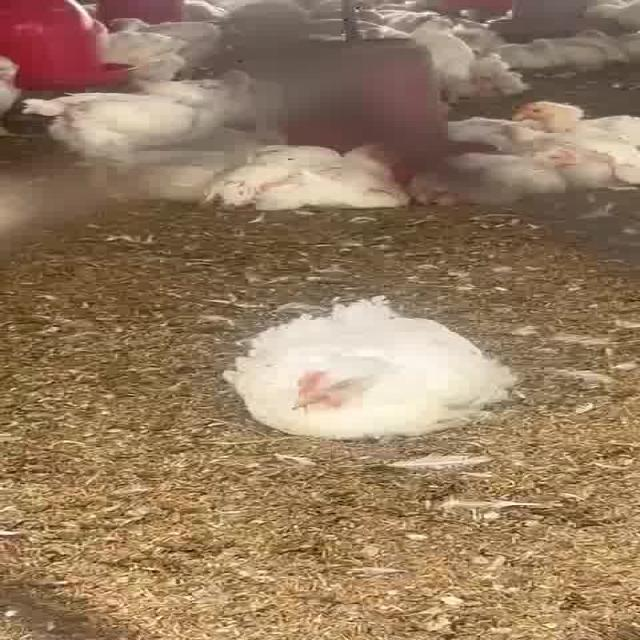AbNormal: (242, 308, 494, 431), (230, 140, 406, 210), (420, 150, 572, 204), (503, 99, 640, 139)
